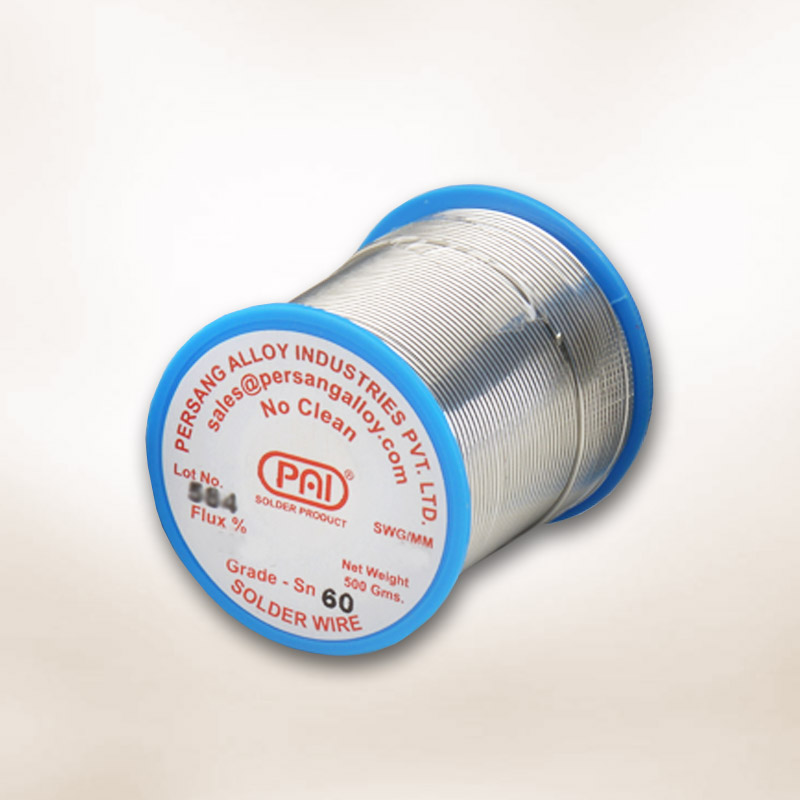Nonrec_Tangler: (177, 164, 655, 678)
